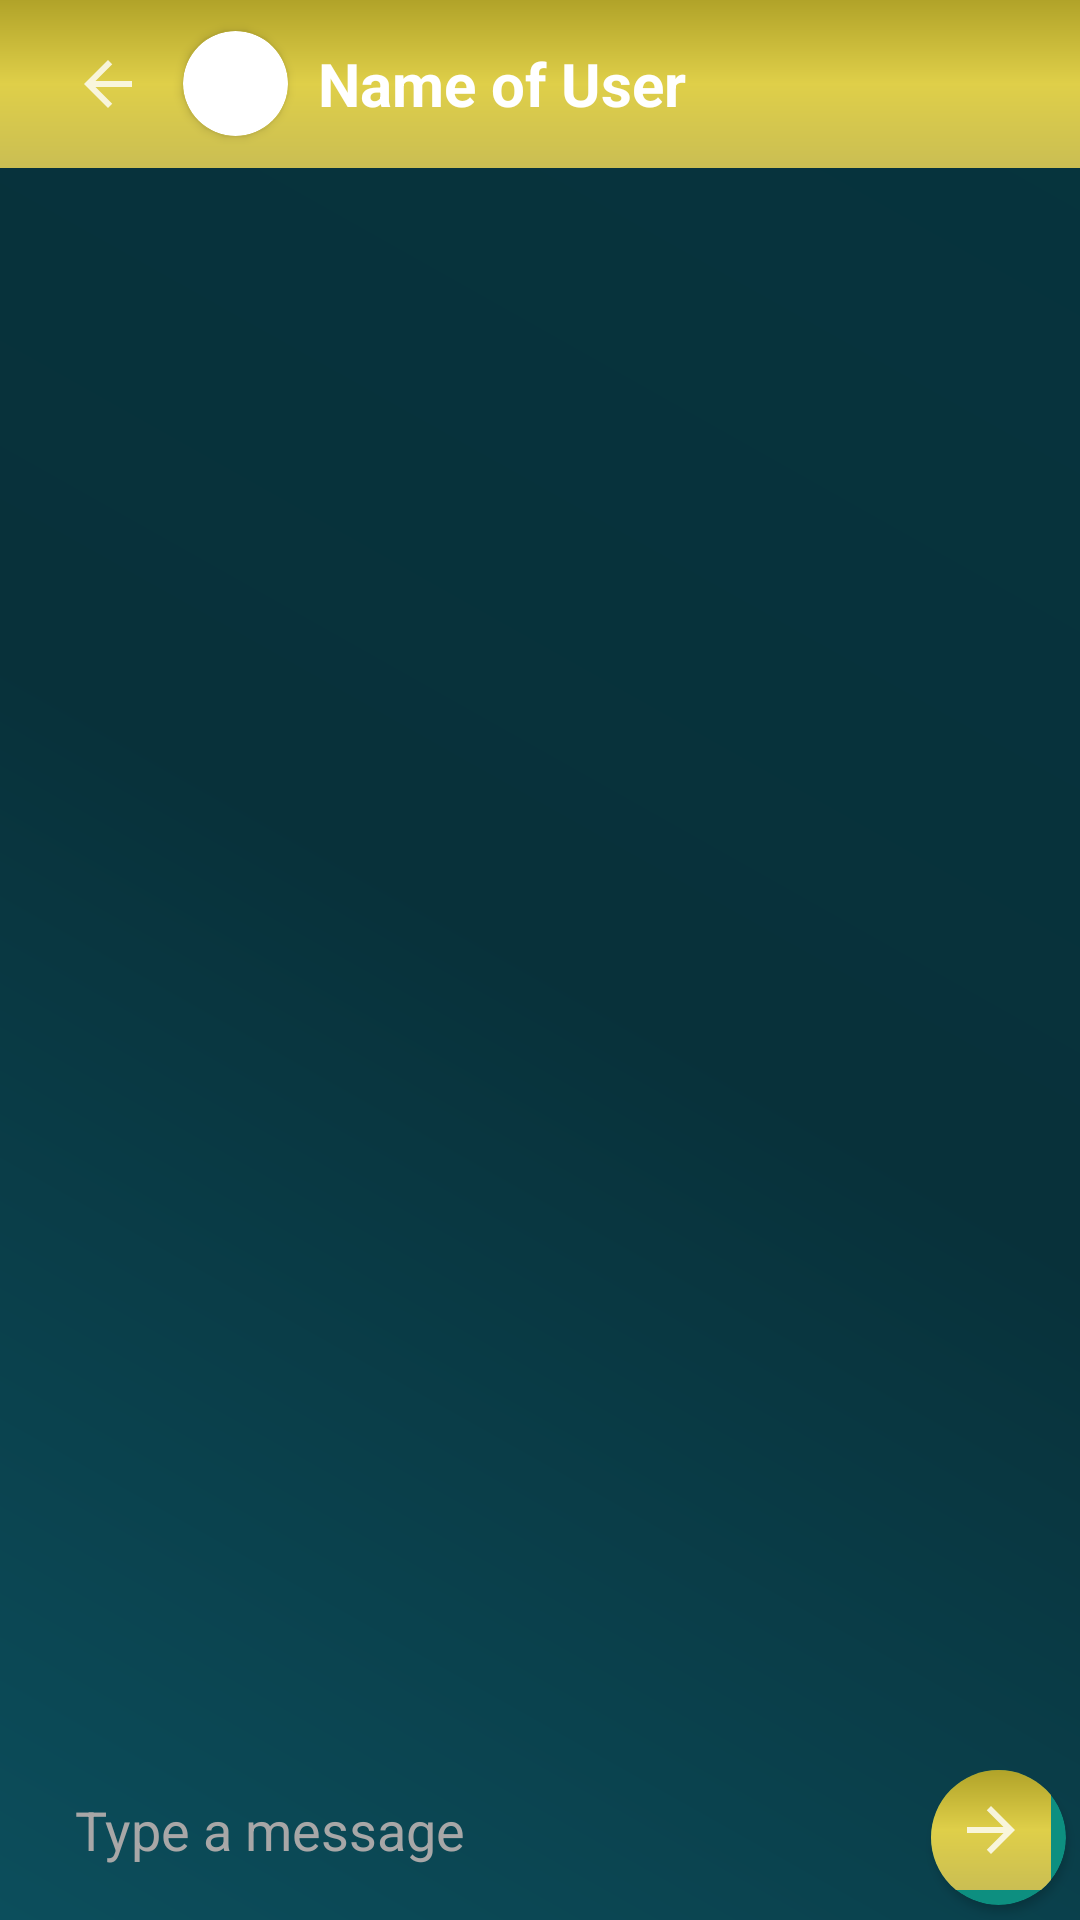

Icons on this 1080w x 1920h Android screen, each with the point to tap as (x=x, y=y):
front arrow: (x=991, y=1830)
